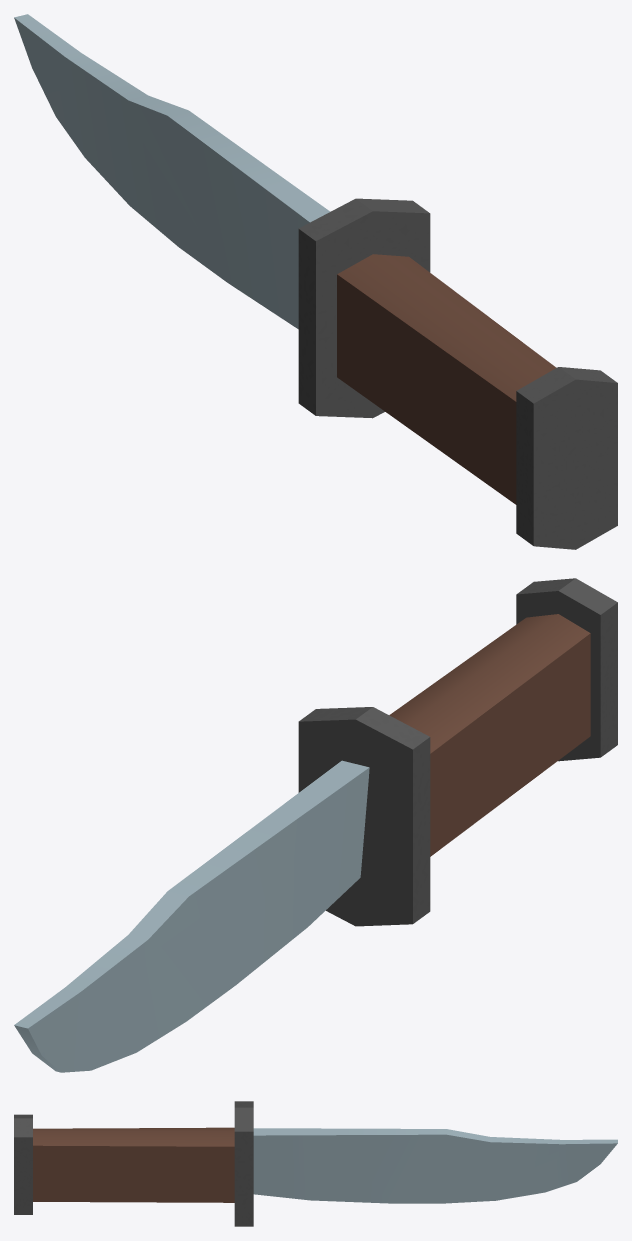
The model's file is Knife.fbx.
3 renders of one model, top to bottom at view 1: azimuth 30°, elevation 25°; view 2: azimuth 150°, elevation 25°; view 3: azimuth 270°, elevation 25°, orthographic. The views are drawn at different scales.
Parts seen in each view (by area): view 1: Knife; view 2: Knife; view 3: Knife.
Boxes of the visible parts, left/top/right/bottom form: Knife: left=14, top=14, right=617, bottom=549; Knife: left=14, top=578, right=617, bottom=1072; Knife: left=14, top=1101, right=617, bottom=1226.
Bounding box in the file's own units: 15.87 × 27.44 × 133.
Materials: 1 (1 with a texture image).
